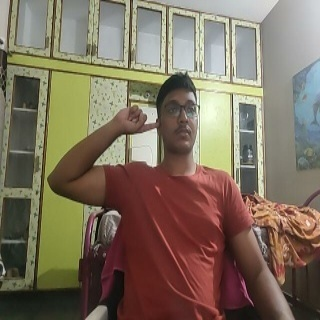Deaf: (114, 103, 159, 136)
Face: (155, 73, 200, 157)
